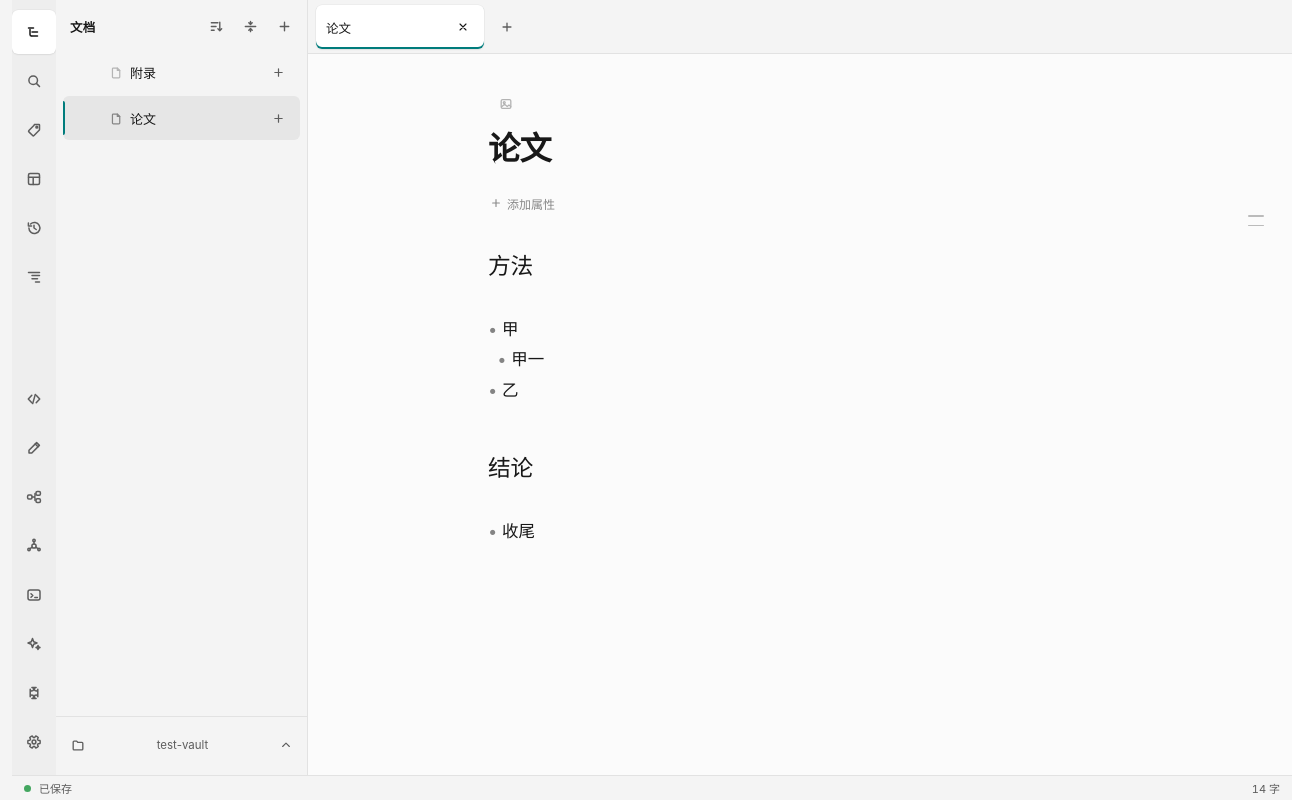
Test: 思维导图 › 根是笔记本身，标题和列表都进图
Click the button named "思维导图": [34, 497] box [12,475,56,519]
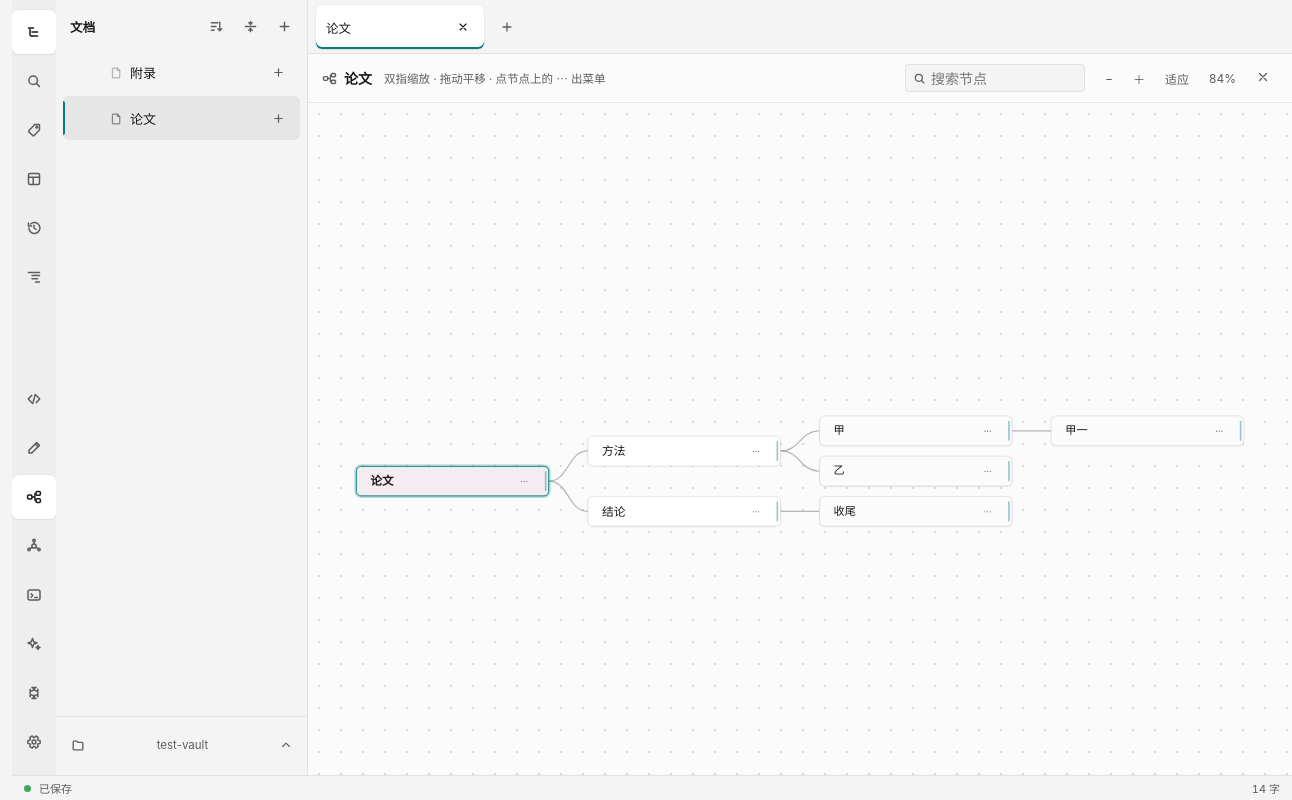
Now the element with class "mindmap" is shown
